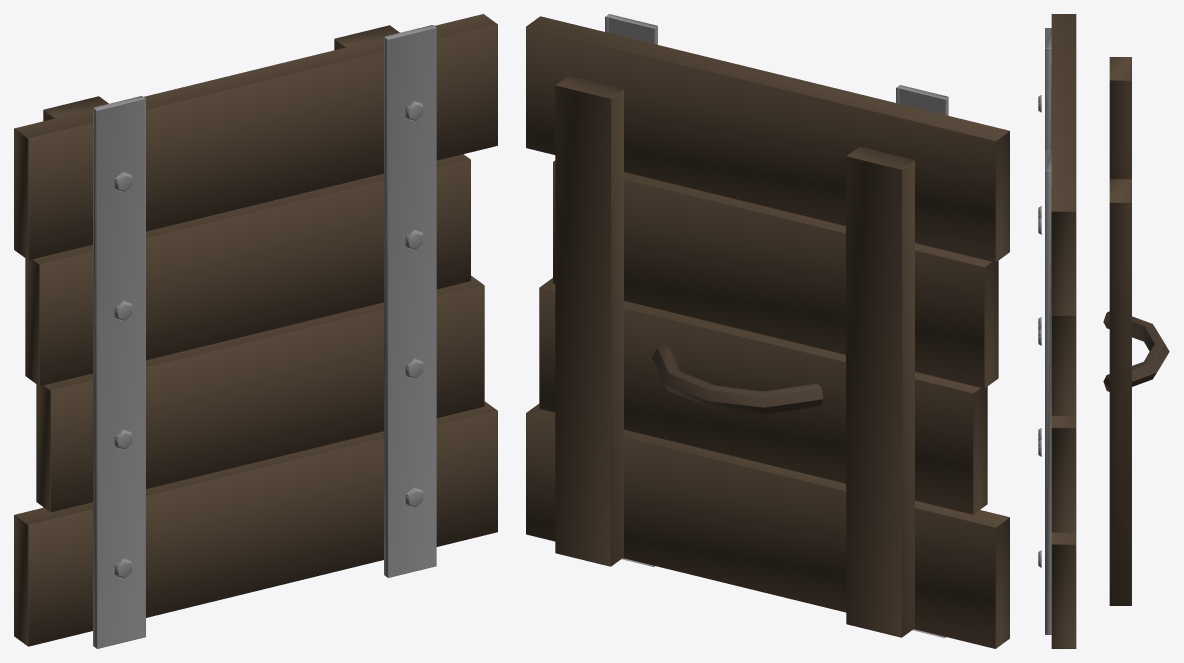
Rendered from gear_frontier_board.glb.
3 views of the same model, side by side, from view 1: azimuth 30°, elevation 25°; view 2: azimuth 150°, elevation 25°; view 3: azimuth 270°, elevation 25° (orthographic). The views are drawn at different scales.
Visible parts, largest first — view 1: gear_frontier_board; view 2: gear_frontier_board; view 3: gear_frontier_board.
Part boxes in pixels (x1=…): gear_frontier_board: x1=14, y1=14, x2=497, y2=648; gear_frontier_board: x1=526, y1=14, x2=1009, y2=648; gear_frontier_board: x1=1038, y1=14, x2=1169, y2=648.
Size of the model in its own units: 0.42 by 0.46 by 0.1179.
